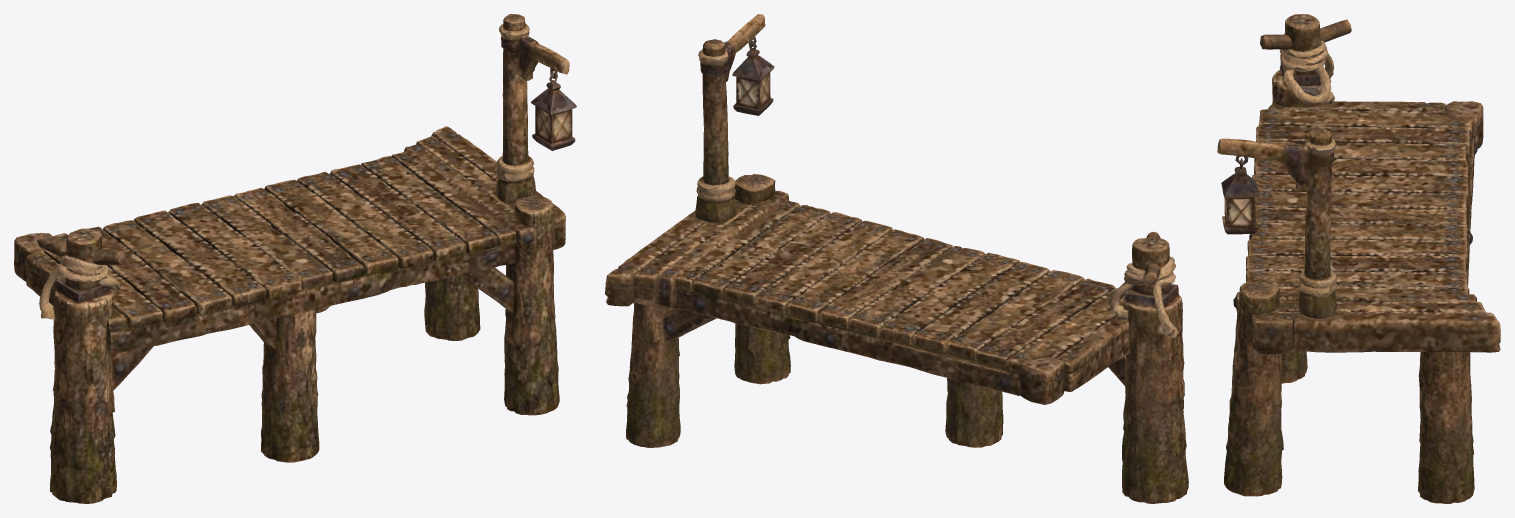
File: pier_lite.glb
3 views of the same model, side by side, from view 1: azimuth 30°, elevation 25°; view 2: azimuth 150°, elevation 25°; view 3: azimuth 270°, elevation 25° (orthographic). The views are drawn at different scales.
Parts seen in each view (by area): view 1: geometry_0; view 2: geometry_0; view 3: geometry_0.
Part boxes in pixels (x1,y1,x2,y2): geometry_0: [14, 14, 576, 503]; geometry_0: [605, 14, 1188, 503]; geometry_0: [1217, 14, 1500, 503].
Bounding box in the file's own units: 1.89 × 1.3 × 0.9228.
1 material, 1 textured.
